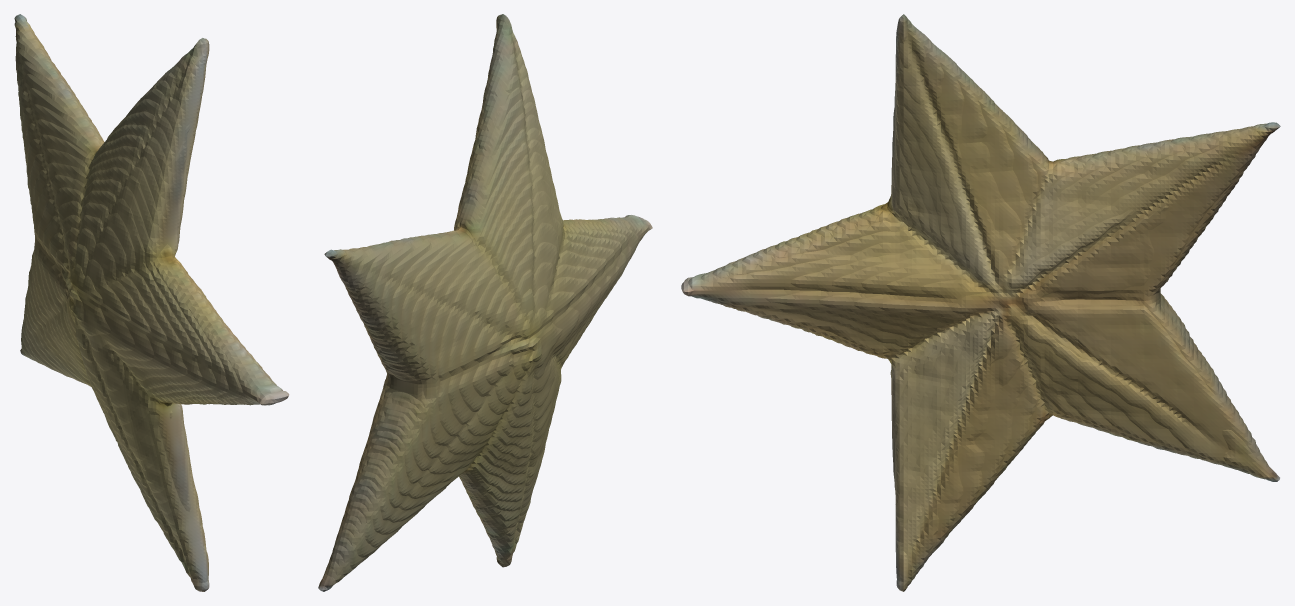
File: star.glb
The picture shows the model from 3 angles, left to right: view 1: azimuth 30°, elevation 25°; view 2: azimuth 150°, elevation 25°; view 3: azimuth 270°, elevation 25°; orthographic projection. The views are drawn at different scales.
Visible parts, largest first — view 1: world; view 2: world; view 3: world.
Boxes of the visible parts, x1,y1,x2,y2 form: world: [14, 14, 289, 591]; world: [318, 14, 652, 591]; world: [681, 14, 1280, 591].
Size of the model in its own units: 0.1752 by 1.05 by 0.9866.
